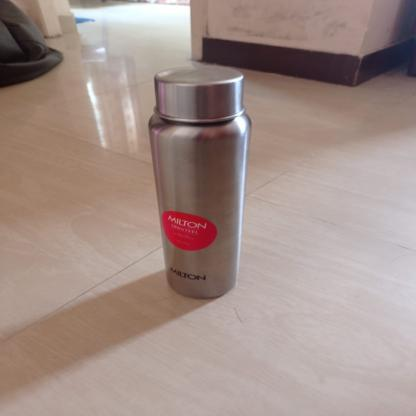bottle: (137, 56, 261, 307)
